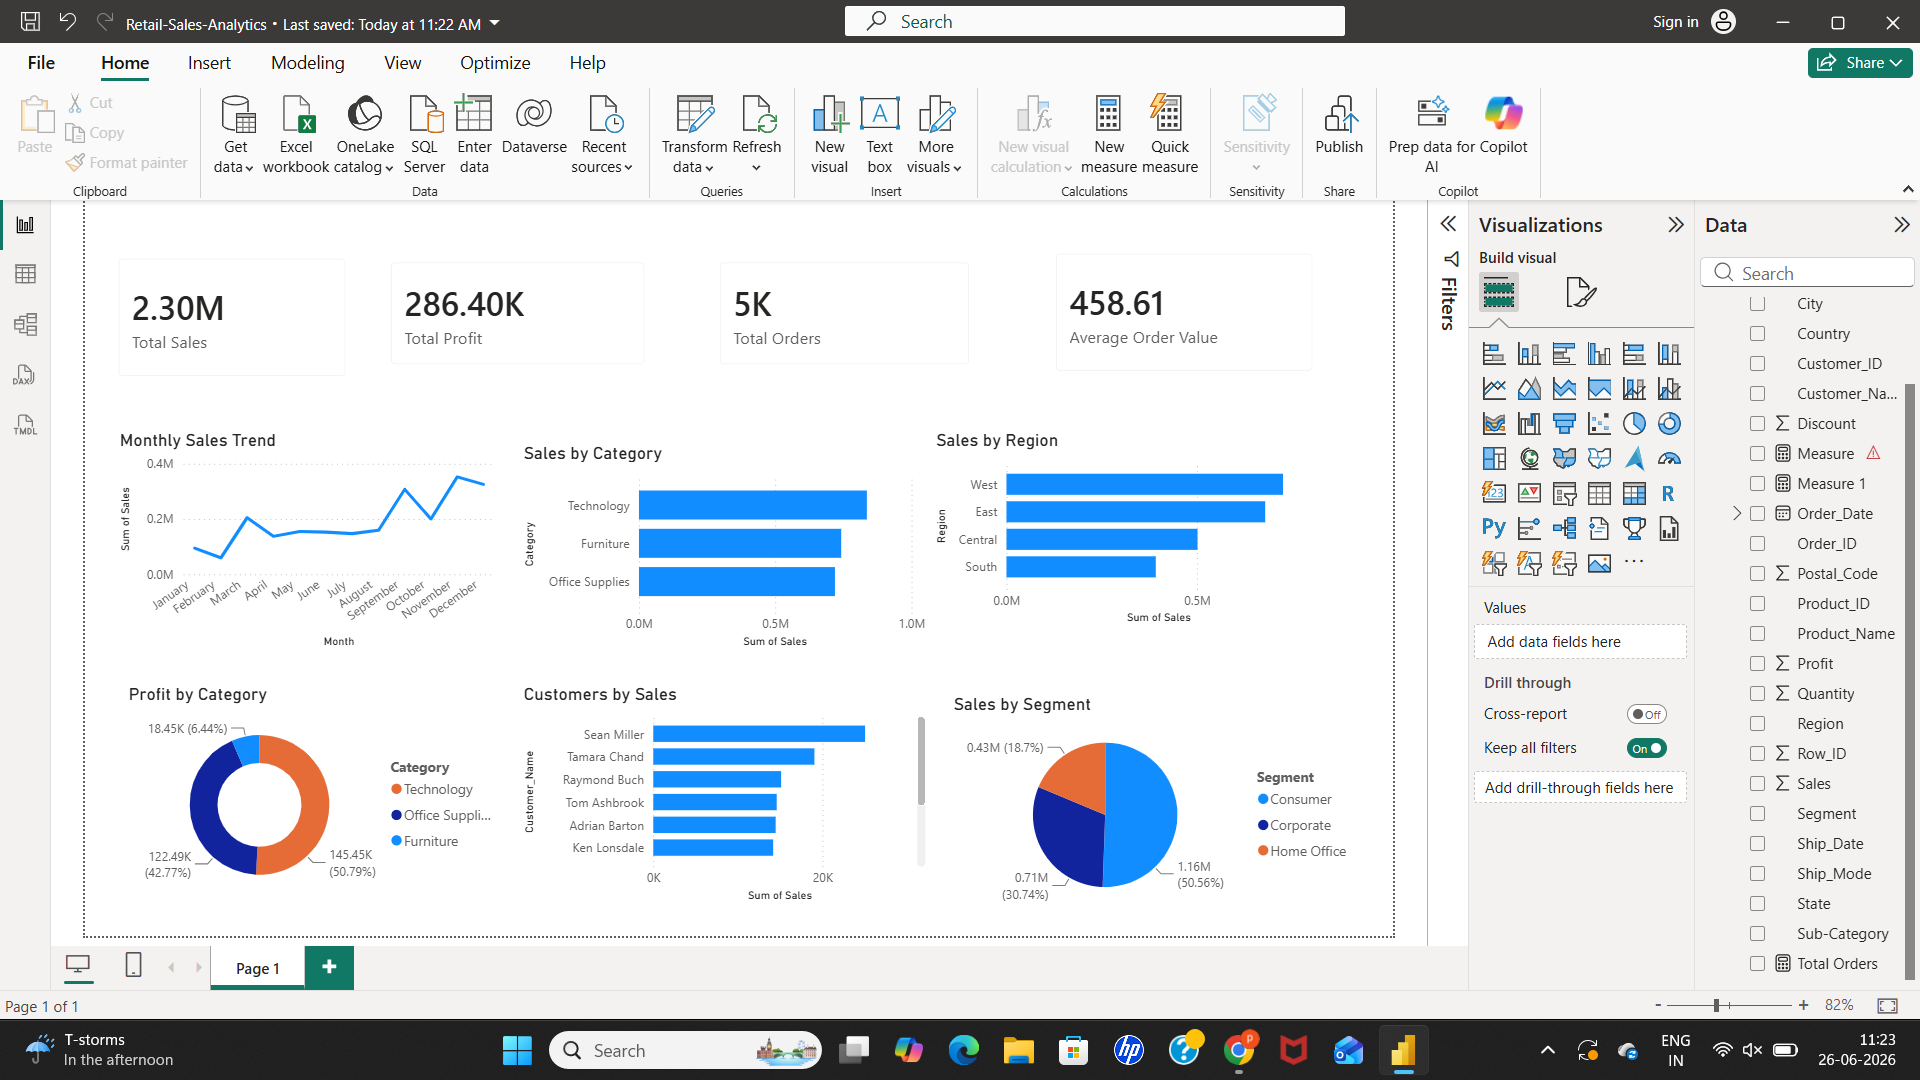

This screenshot's page, from the dashboard's own definition file:
{"tool":"powerbi","page":{"name":"Page 1","canvas":[1280,720],"ordinal":0},"visuals":[{"type":"cardVisual","fields":{"Data":["Sum(cleaned_sales.Sales)"]},"box":[16.5,39.8,256.6,149.6],"z":0},{"type":"cardVisual","fields":{"Data":["Sum(cleaned_sales.Profit)"]},"box":[282.7,43.9,282.7,134.5],"z":1},{"type":"cardVisual","fields":{"Data":["cleaned_sales.Average Order Value"]},"box":[933.1,35.7,285.4,149.6],"z":3},{"type":"cardVisual","fields":{"Data":["cleaned_sales.Total Orders"]},"box":[603.8,43.9,278.6,134.5],"z":4},{"type":"lineChart","title":"Monthly Sales Trend","fields":{"Y":["Sum(cleaned_sales.Sales)"],"Category":["cleaned_sales.Order_Date.Variation.Date Hierarchy.Month"]},"box":[28.8,225,376,218.2],"z":5},{"type":"clusteredBarChart","title":"Sales by Category","fields":{"Category":["cleaned_sales.Category"],"Y":["Sum(cleaned_sales.Sales)"]},"box":[424,237.4,403.4,205.8],"z":6},{"type":"barChart","title":"Sales by Region","fields":{"Category":["cleaned_sales.Region"],"Y":["Sum(cleaned_sales.Sales)"]},"box":[827.4,225,391.1,194.9],"z":7},{"type":"donutChart","title":"Profit by Category","fields":{"Category":["cleaned_sales.Category"],"Y":["Sum(cleaned_sales.Profit)"]},"box":[38.4,473.4,376,218.2],"z":8},{"type":"pieChart","title":"Sales by Segment","fields":{"Category":["cleaned_sales.Segment"],"Y":["Sum(cleaned_sales.Sales)"]},"box":[845.3,483,403.4,218.2],"z":9},{"type":"clusteredBarChart","title":"Customers by Sales","fields":{"Category":["cleaned_sales.Customer_Name"],"Y":["Sum(cleaned_sales.Sales)"]},"box":[424,473,403,218],"z":10}]}

Visuals, with their boxes on the page's 1280x720 design canvas (x1, y1, x2, y2). These are canvas units, not pixel positions in the 1920x1080 screenshot, which may show the page scaled, cropped or inside an application window:
cardVisual - Sum(cleaned_sales.Sales): crop(16, 40, 273, 189)
cardVisual - Sum(cleaned_sales.Profit): crop(283, 44, 565, 178)
cardVisual - cleaned_sales.Average Order Value: crop(933, 36, 1218, 185)
cardVisual - cleaned_sales.Total Orders: crop(604, 44, 882, 178)
"Monthly Sales Trend" lineChart: crop(29, 225, 405, 443)
"Sales by Category" clusteredBarChart: crop(424, 237, 827, 443)
"Sales by Region" barChart: crop(827, 225, 1218, 420)
"Profit by Category" donutChart: crop(38, 473, 414, 692)
"Sales by Segment" pieChart: crop(845, 483, 1249, 701)
"Customers by Sales" clusteredBarChart: crop(424, 473, 827, 691)
